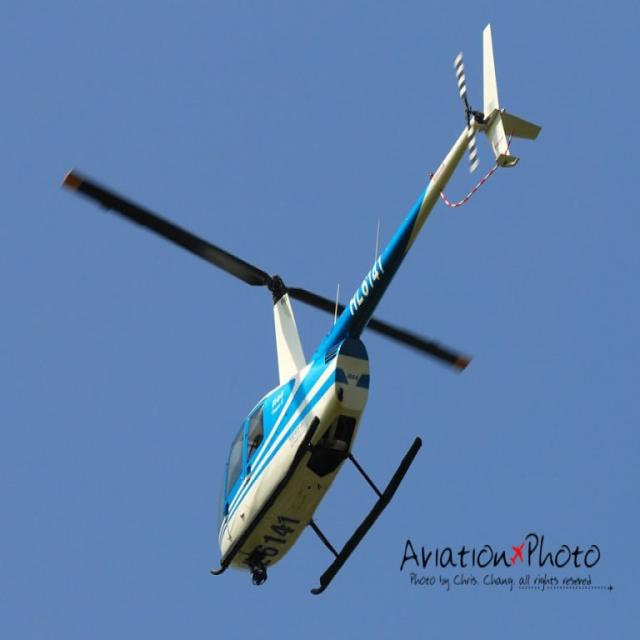CIV_HELO: (216, 22, 544, 596)
